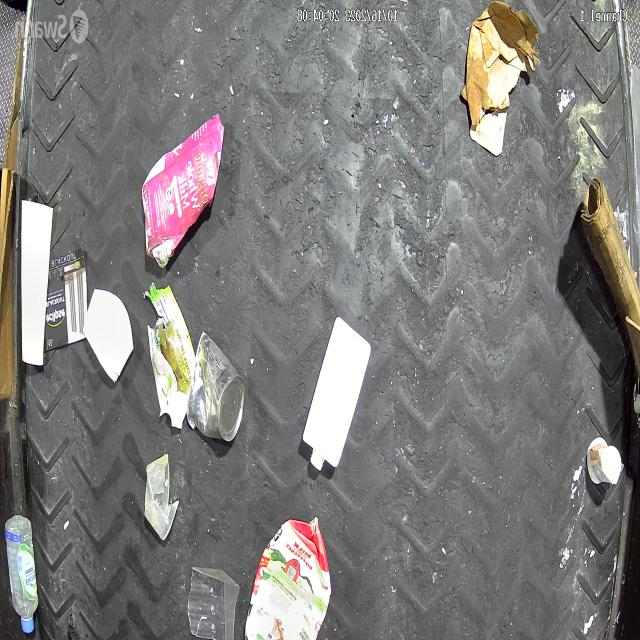can: (186, 330, 245, 441)
milk_jug: (302, 316, 371, 474)
non_white_jug: (242, 510, 330, 640)
plastic_bottle: (4, 513, 39, 635)
